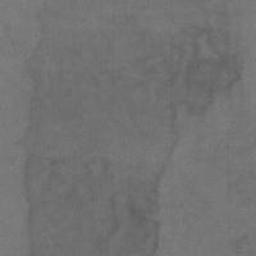Water spot: (19, 0, 243, 256)
